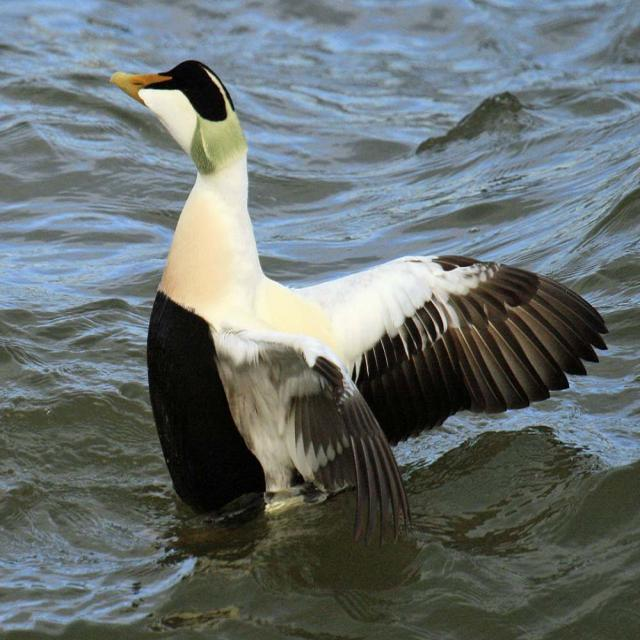bird: (102, 47, 602, 584)
